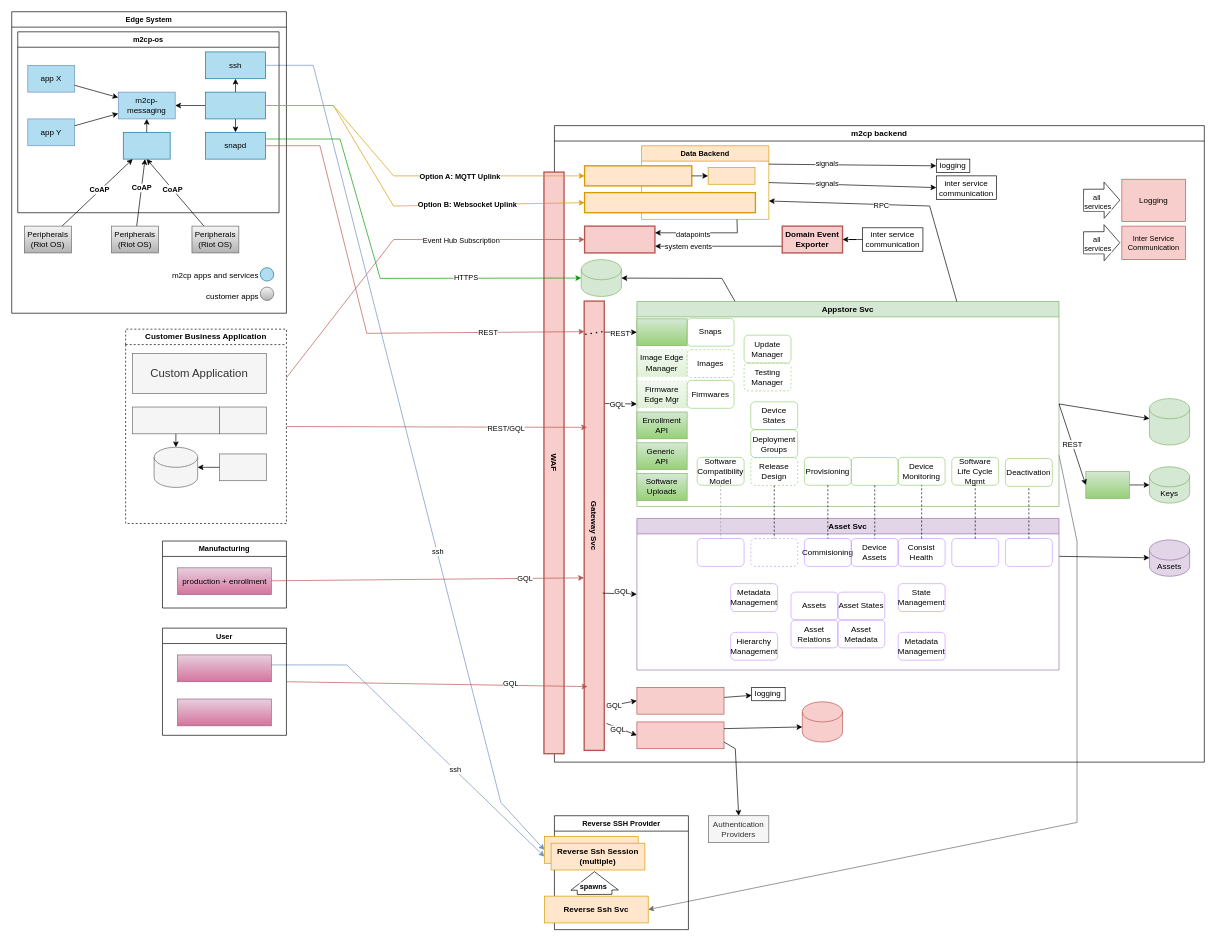
The diagram is 1216 pixels wide and 941 high, and some of its shapes have lost their labels. Here are the shapes that lost their labels. From the top down, the centre of each, then its label:
At pixel 235 105: "m2cp-gateway".
At pixel 146 145: "m2cp-coap".
At pixel 638 175: "IoT Hub Uplink".
At pixel 731 175: "Ingestion Function".
At pixel 670 202: "Websocket Uplink (with Ingestion)".
At pixel 619 239: "Event API (Event Hub)".
At pixel 601 277: "Blobs".
At pixel 661 332: "Snapd Edge Manager".
At pixel 175 420: "Custom Data Analytics".
At pixel 242 420: "Custom Event Triggers".
At pixel 1169 421: "Apps, Devices, Users".
At pixel 175 467: "Data Points".
At pixel 242 467: "Custom Persistence Svcs".
At pixel 874 471: "Device Software-State".
At pixel 1107 484: "Assertion Svc".
At pixel 720 552: "Asset Model Catalog".
At pixel 774 552: "Release Management".
At pixel 975 552: "Device Life Cycle Mgmt".
At pixel 1028 552: "Decomissioning".
At pixel 224 668: "m2cp CLI tool".
At pixel 224 712: "Browser Frontend".
At pixel 680 700: "Log Reader Svc".
At pixel 680 735: "User Svc".
At pixel 822 721: "Users + Roles".
